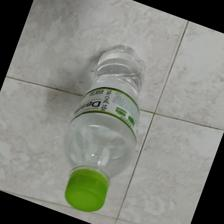Dasani: (62, 43, 146, 214)
